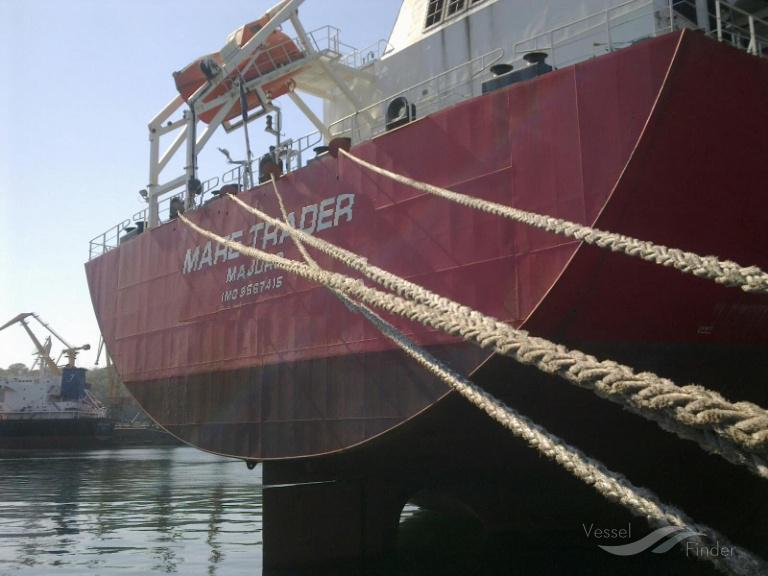OCR: (178, 194, 378, 323)
